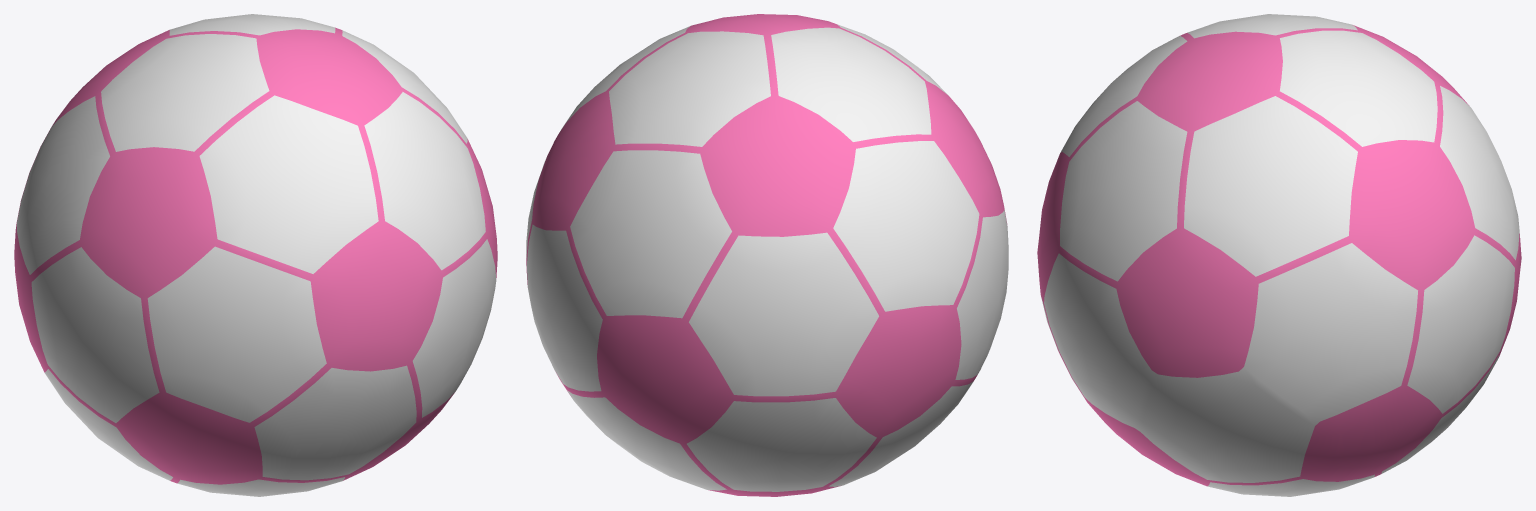
File: Soccerball_Pink.fbx
3 renders of one model, left to right at view 1: azimuth 30°, elevation 25°; view 2: azimuth 150°, elevation 25°; view 3: azimuth 270°, elevation 25°, orthographic.
Parts seen in each view (by area): view 1: Soccerball_Pink; view 2: Soccerball_Pink; view 3: Soccerball_Pink.
Part boxes in pixels (x1,y1,x2,y2): Soccerball_Pink: (14, 14, 497, 496); Soccerball_Pink: (526, 14, 1008, 496); Soccerball_Pink: (1037, 14, 1521, 496).
Size of the model in its own units: 92.54 by 92.53 by 92.65.
